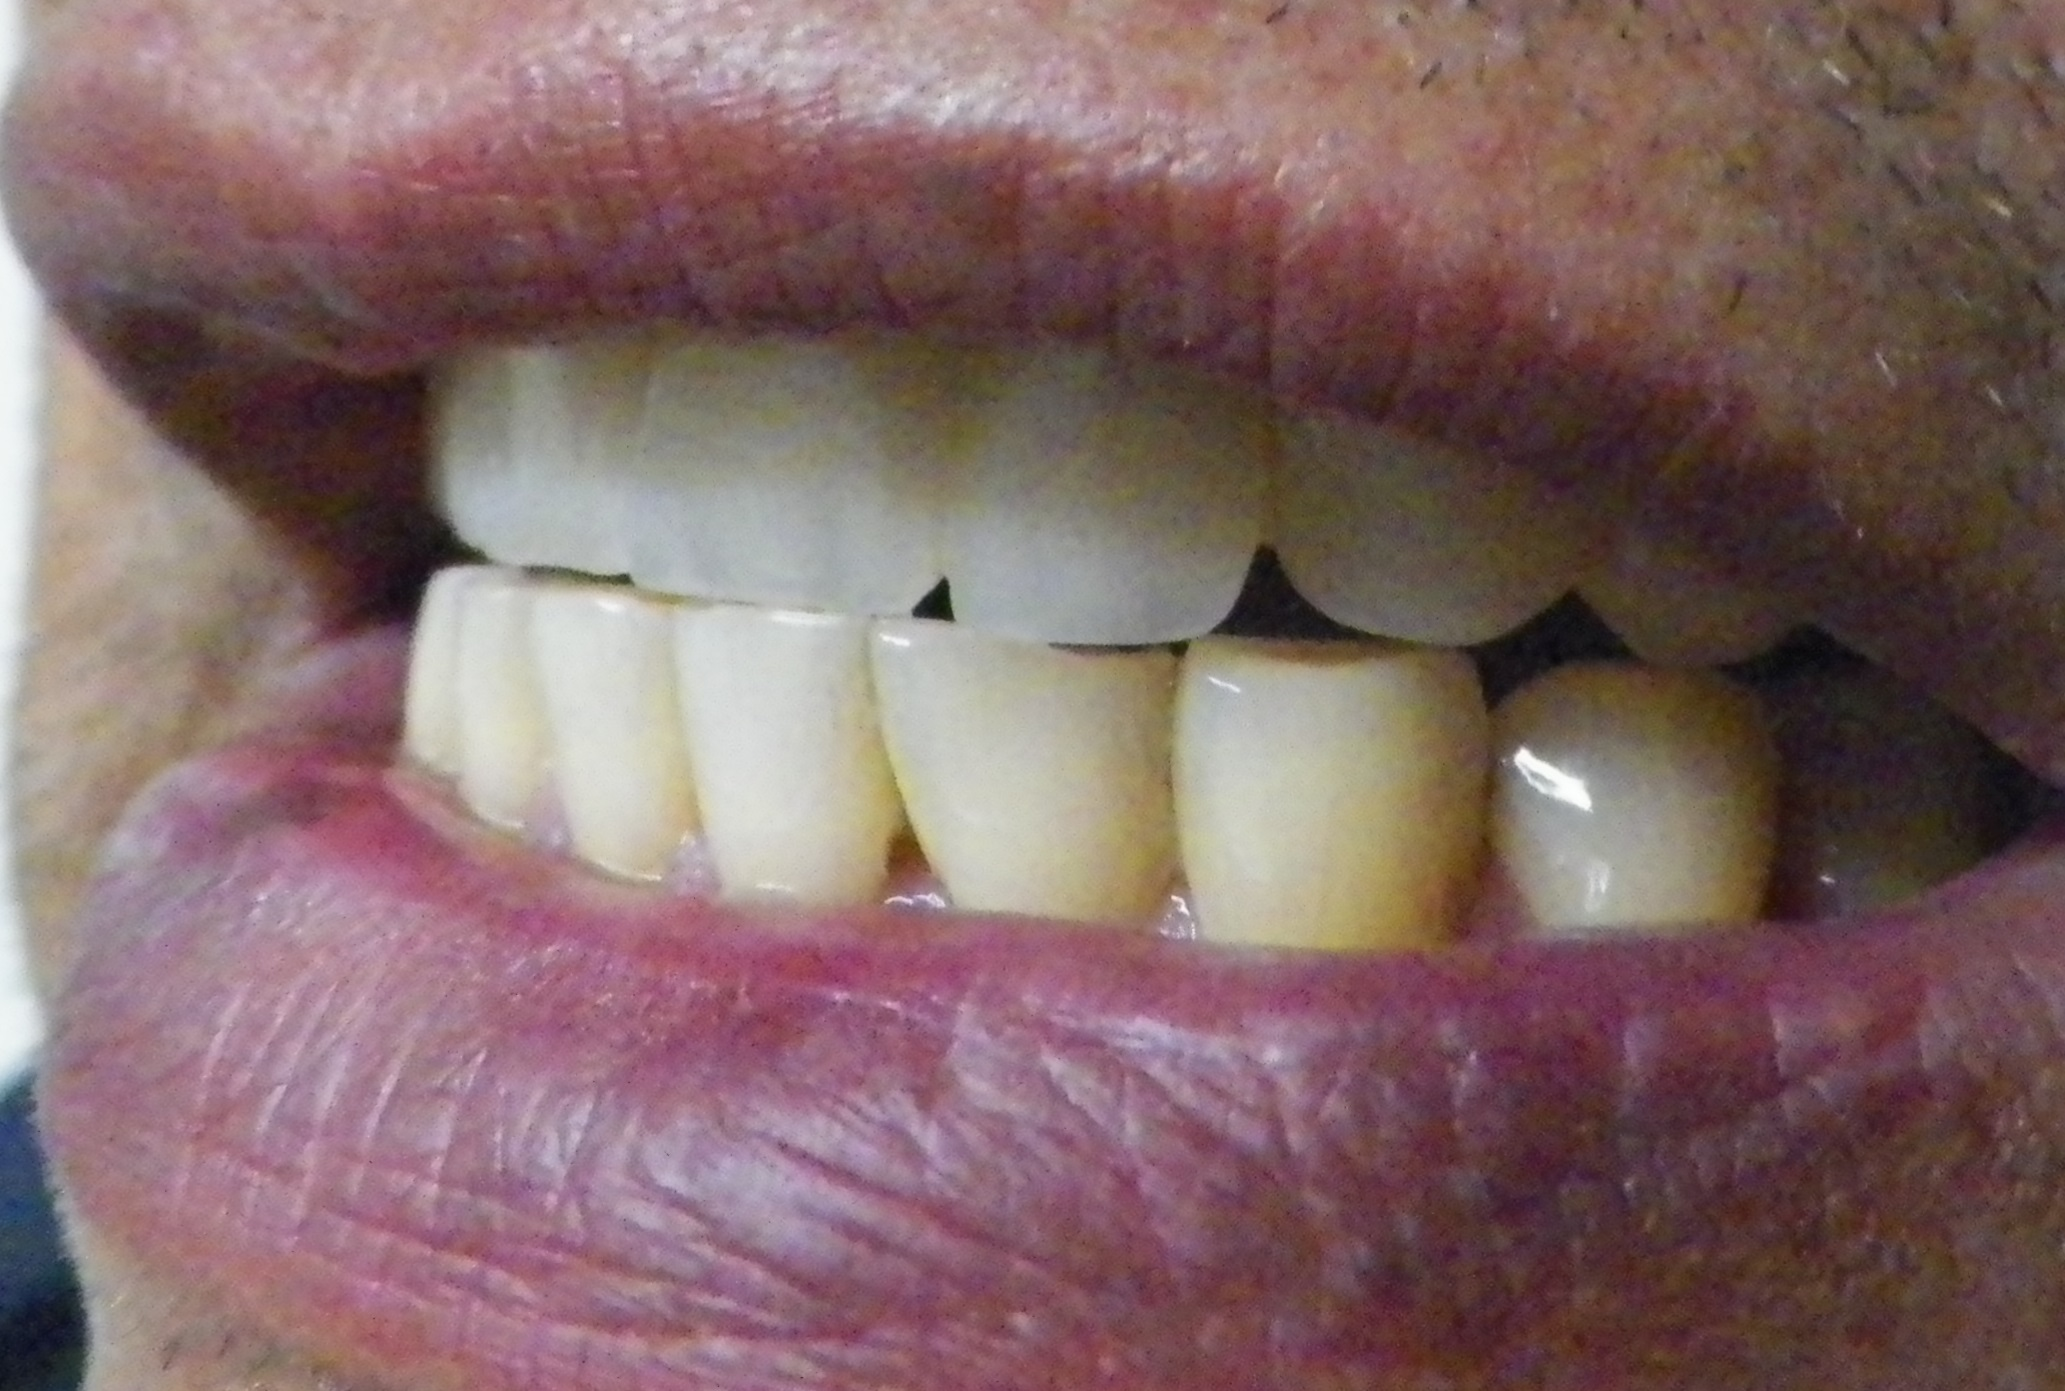boca: (383, 354, 1952, 938)
